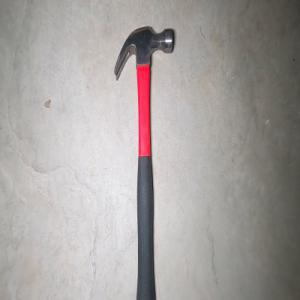Hammer: (113, 24, 174, 300)
